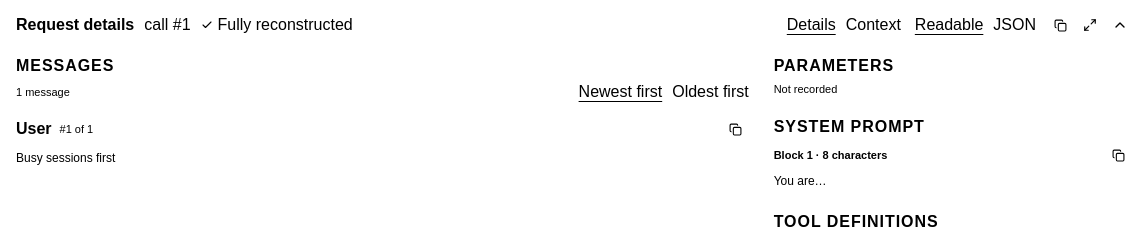
Scenario: DetailPanel when the Context tab cannot load › keeps what was sent, and says the tab’s code is gone, offering a reload
The image size is (1142, 244).
Expected: the text "Fully reconstructed" is shown, [218,17,353,33]
Step 1. Click the radio button labelled "Context" → (873, 25), box [846,16,901,34]
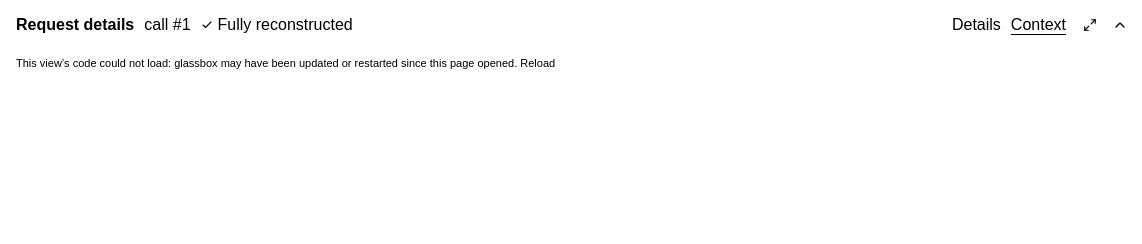
Expected: the text "code could not load" is shown, [16,57,517,69]
Expected: the button "Reload" is shown, [520,57,555,69]
Expected: the button "Copy" is gone
Step 2. Click the radio button labelled "Details" → (976, 25), box [952,16,1001,34]
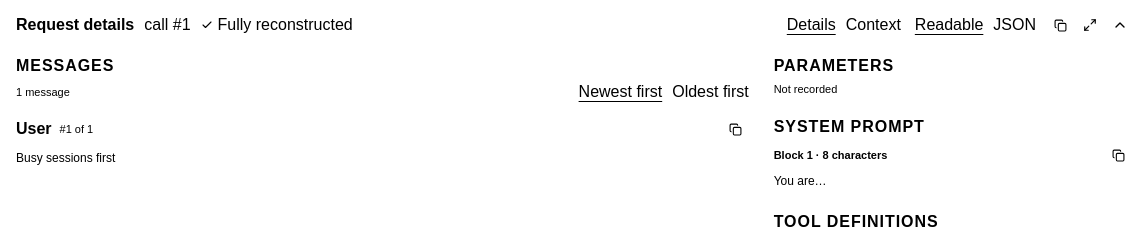
Expected: the heading "Messages" is shown, [16,57,114,74]
